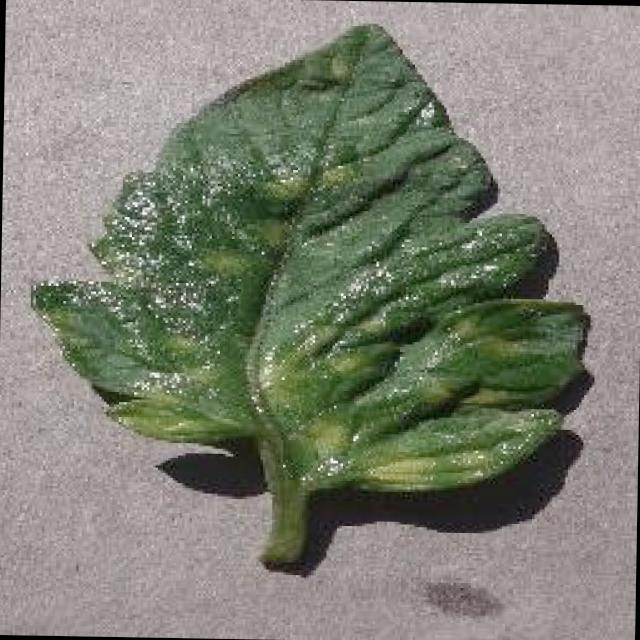Tomato mold leaf: (22, 12, 592, 500)
